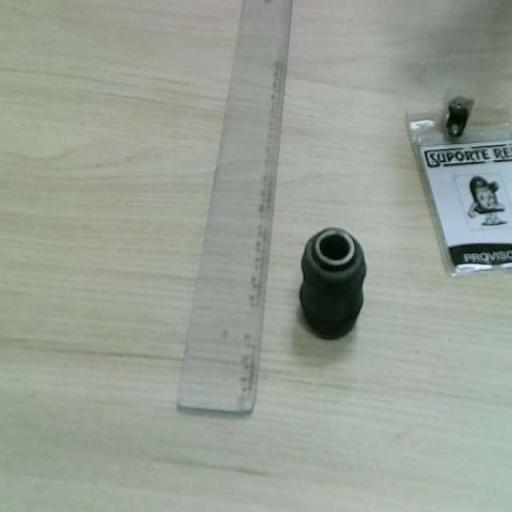peca: (299, 227, 366, 338)
